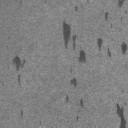red iron: (62, 22, 86, 64), (96, 38, 128, 58), (66, 78, 84, 108), (12, 54, 26, 86), (116, 104, 126, 128), (117, 0, 125, 9), (104, 12, 109, 20), (20, 110, 24, 118)
